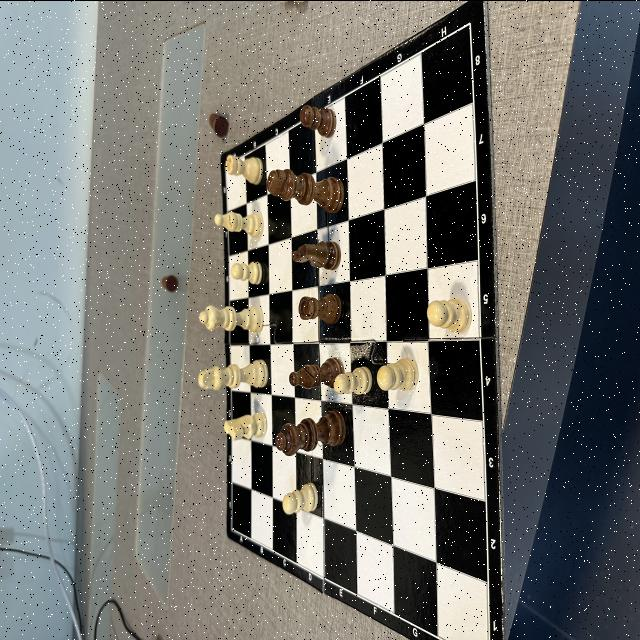Black-Bishop: (288, 354, 344, 388)
Black-King: (266, 168, 344, 212)
Black-Knight: (292, 240, 342, 269)
Black-Pawn: (300, 105, 336, 136), (209, 112, 229, 136), (161, 274, 177, 292)
Black-Queen: (275, 408, 345, 456)
Black-Rook: (298, 292, 342, 322)
White-Bishop: (214, 211, 263, 237)
White-King: (198, 360, 268, 390)
White-Knight: (224, 411, 266, 439)
White-Pawn: (427, 298, 471, 332), (376, 356, 418, 391), (333, 366, 372, 396), (282, 482, 318, 514), (231, 262, 262, 284)
White-Queen: (199, 305, 263, 333)
White-Rook: (225, 154, 263, 183)
